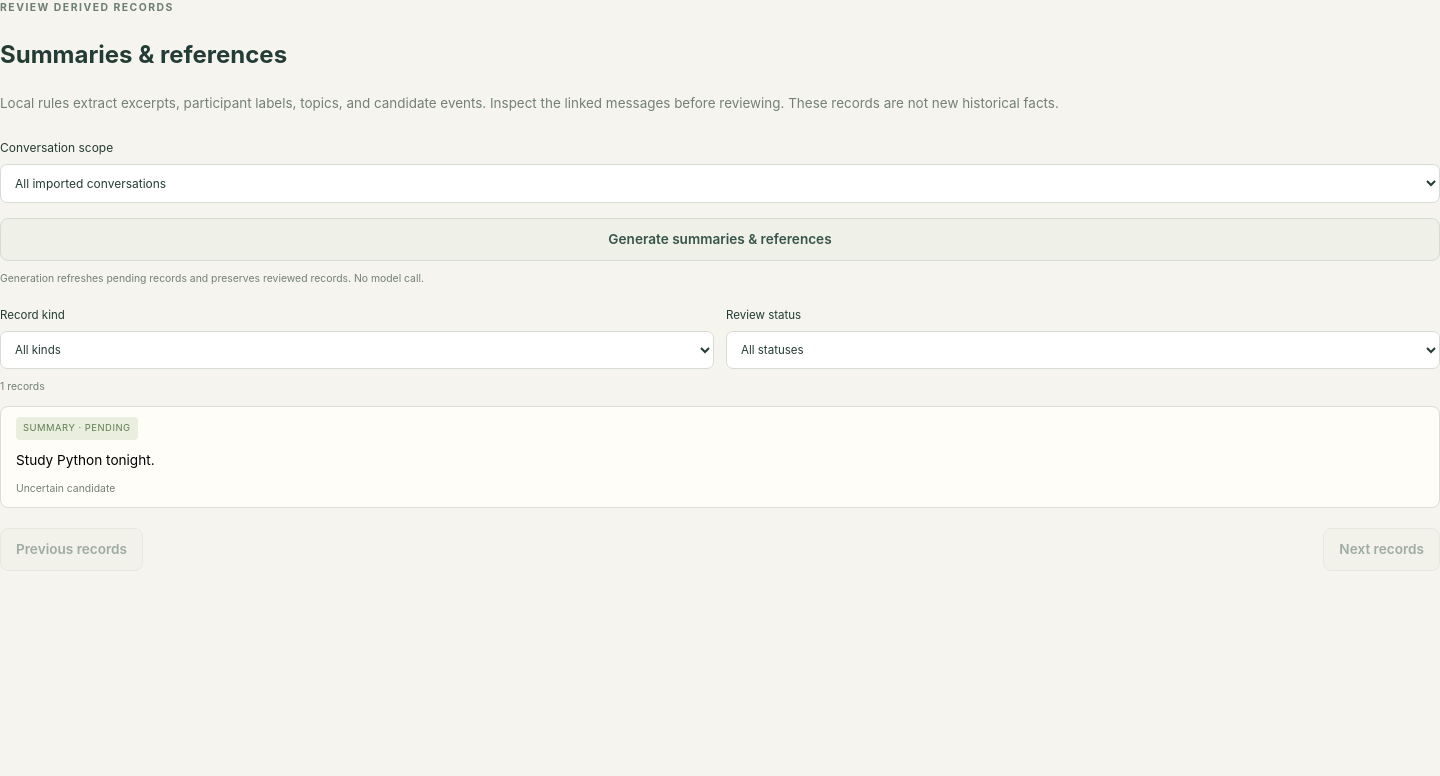
Test case: source-backed correction sends revision and scoped IDs while retaining original generated evidence
Click the button "summary · pending Study Python tonight. Uncertain candidate" at (77, 428), box [0,406,1439,508]
(page scrolled)
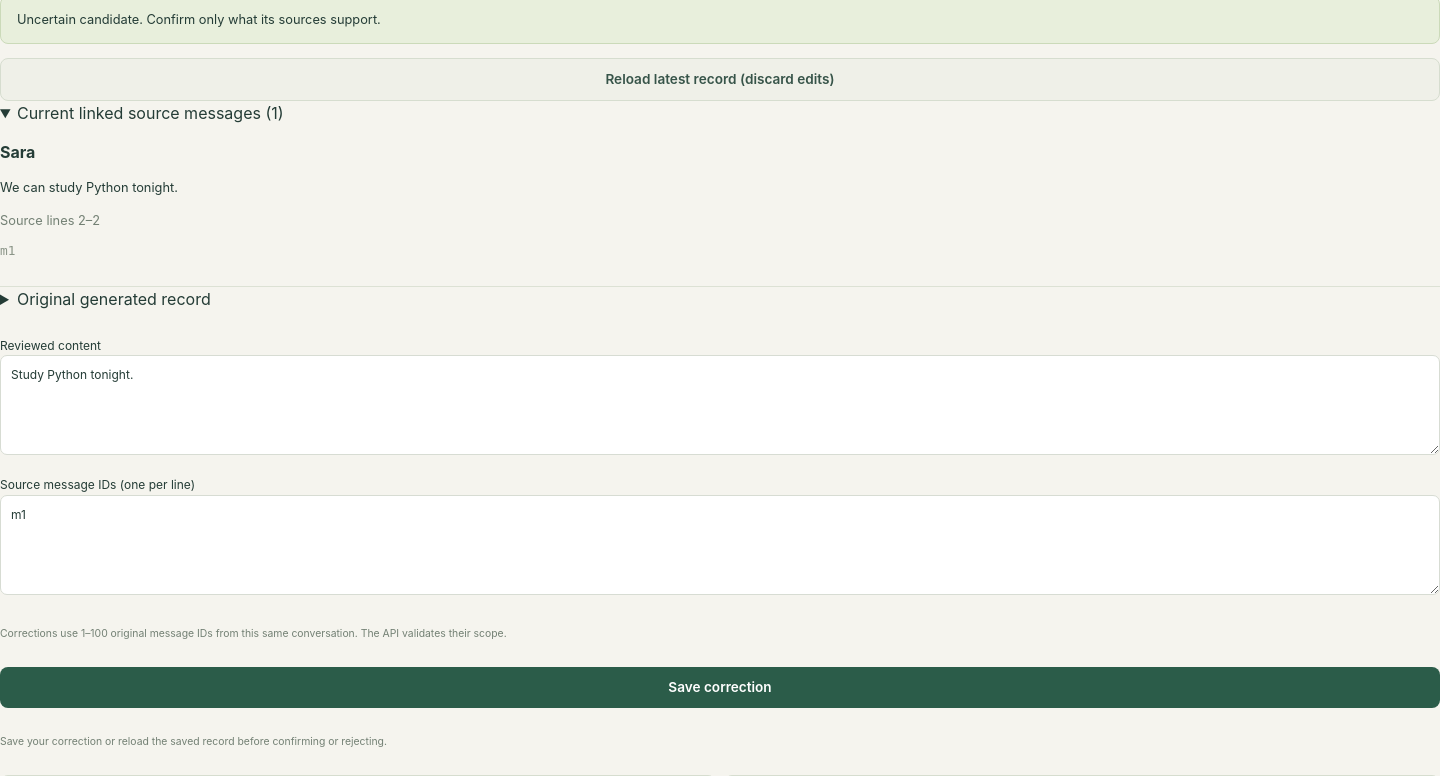
Expected: the text box labelled "Reviewed content" is shown
Expected: the text "We can study Python tonight." is shown 2 times
Replace the text in the text box labelled "Reviewed content" with "Python study was suggested for tonight." at (720, 405), box [0,355,1439,455]
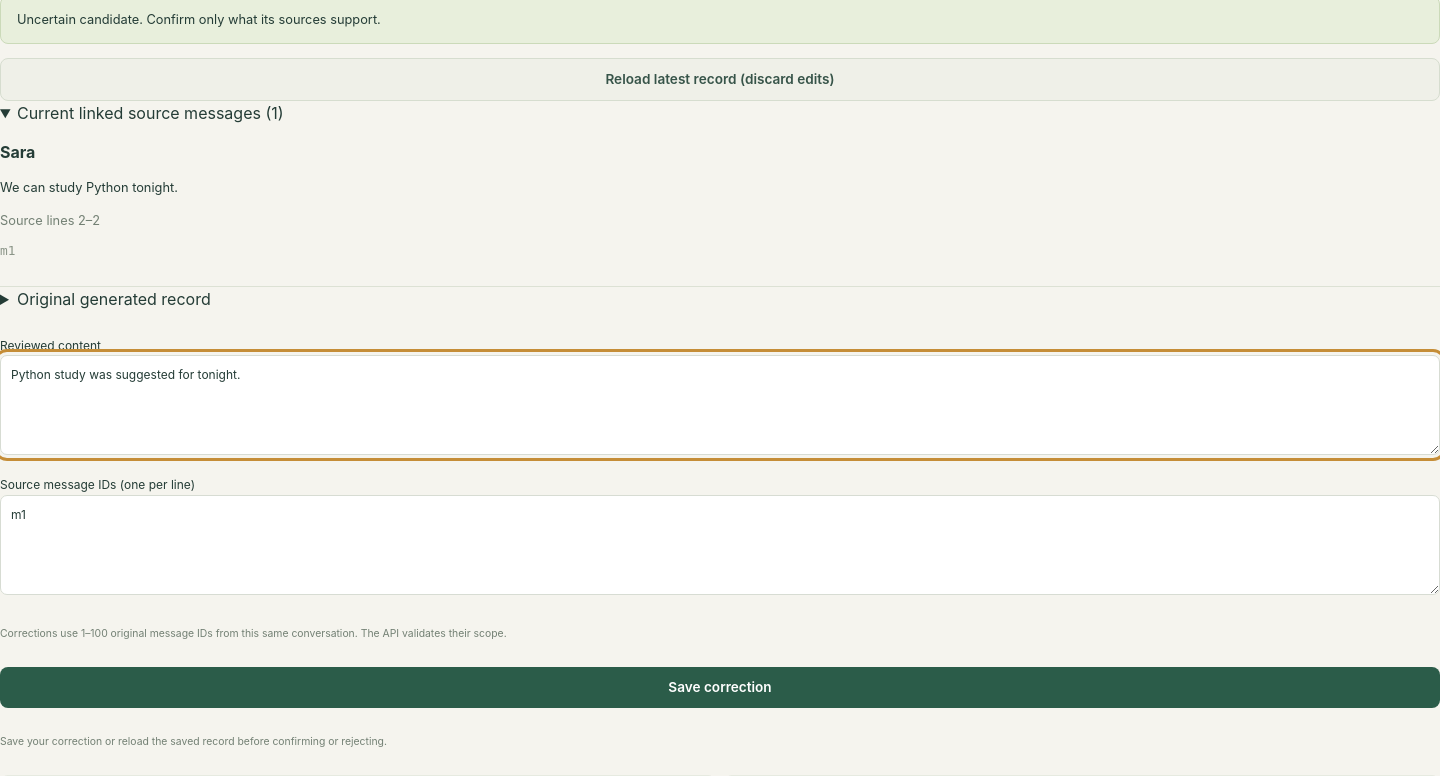
Click the button "Save correction" at (720, 688), box [0,667,1439,708]
(page scrolled)
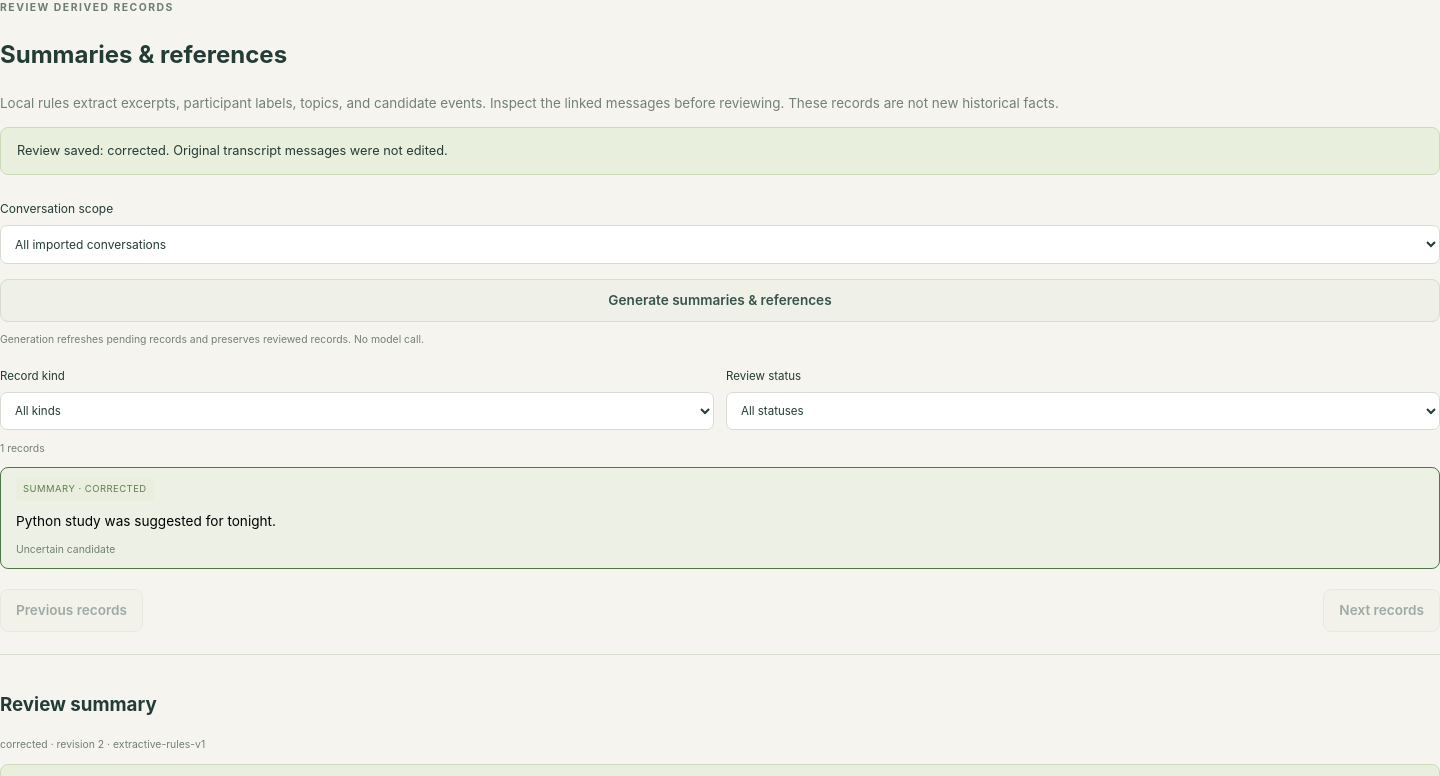
Expected: the text "Review saved: corrected. Original transcript messages were not edited." is shown, [0,127,1439,175]
